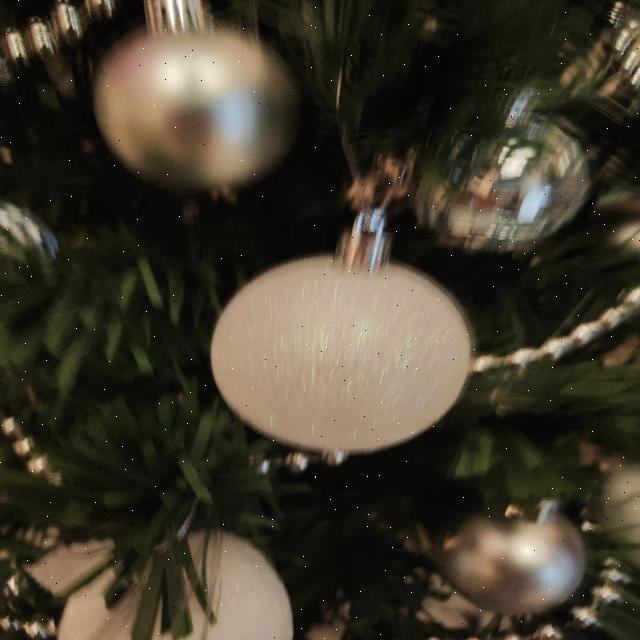Circle: (208, 251, 478, 458), (94, 24, 304, 189), (446, 503, 588, 616)
